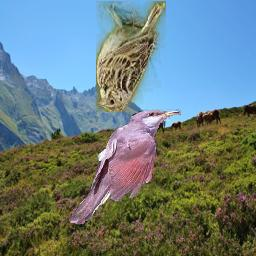Cuckoo: (69, 110, 181, 227)
Sparrow: (96, 2, 166, 113)
